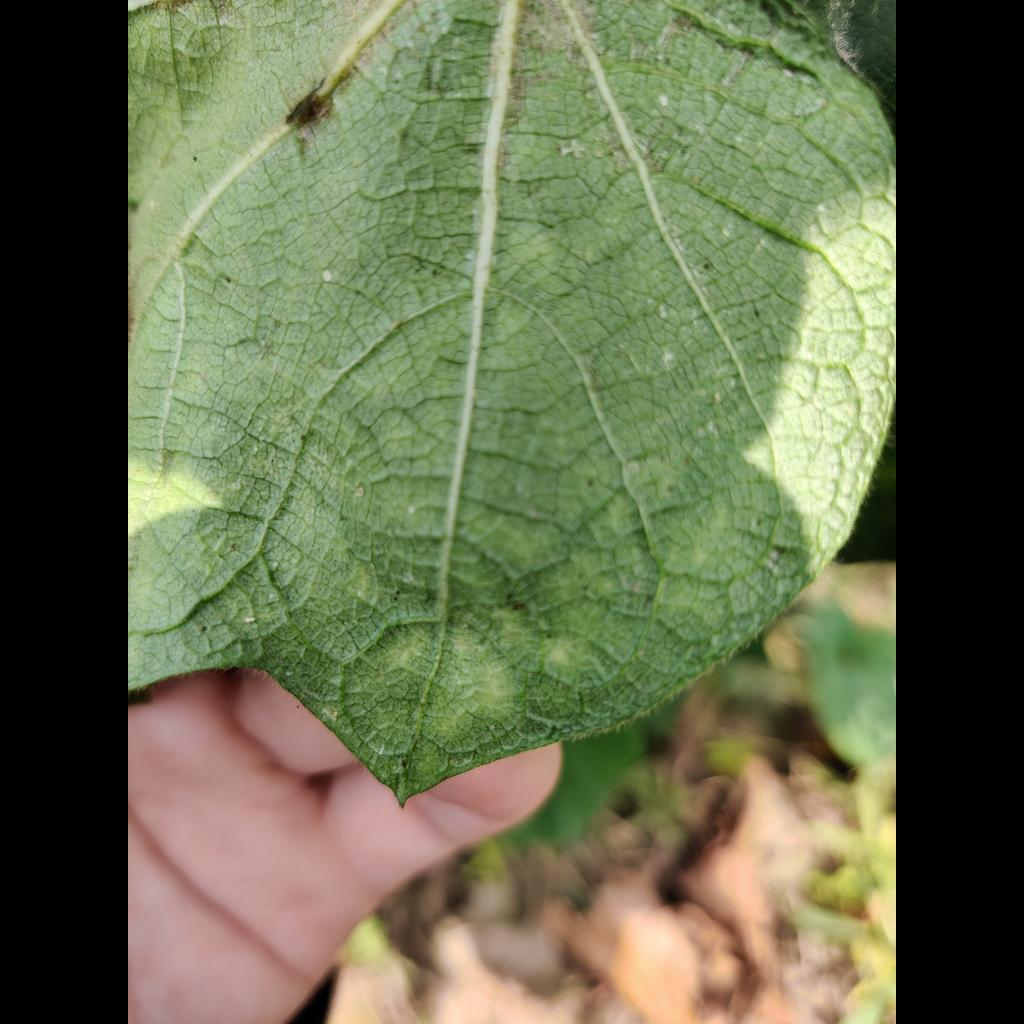nymph: (661, 351, 674, 365), (559, 144, 573, 156), (658, 94, 669, 107), (658, 304, 667, 319), (466, 249, 476, 262), (322, 270, 332, 282), (355, 486, 365, 498), (696, 387, 707, 397), (242, 616, 256, 623), (407, 505, 416, 515), (714, 392, 721, 401)
